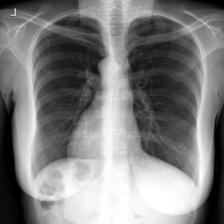normal: (30, 7, 207, 198)
